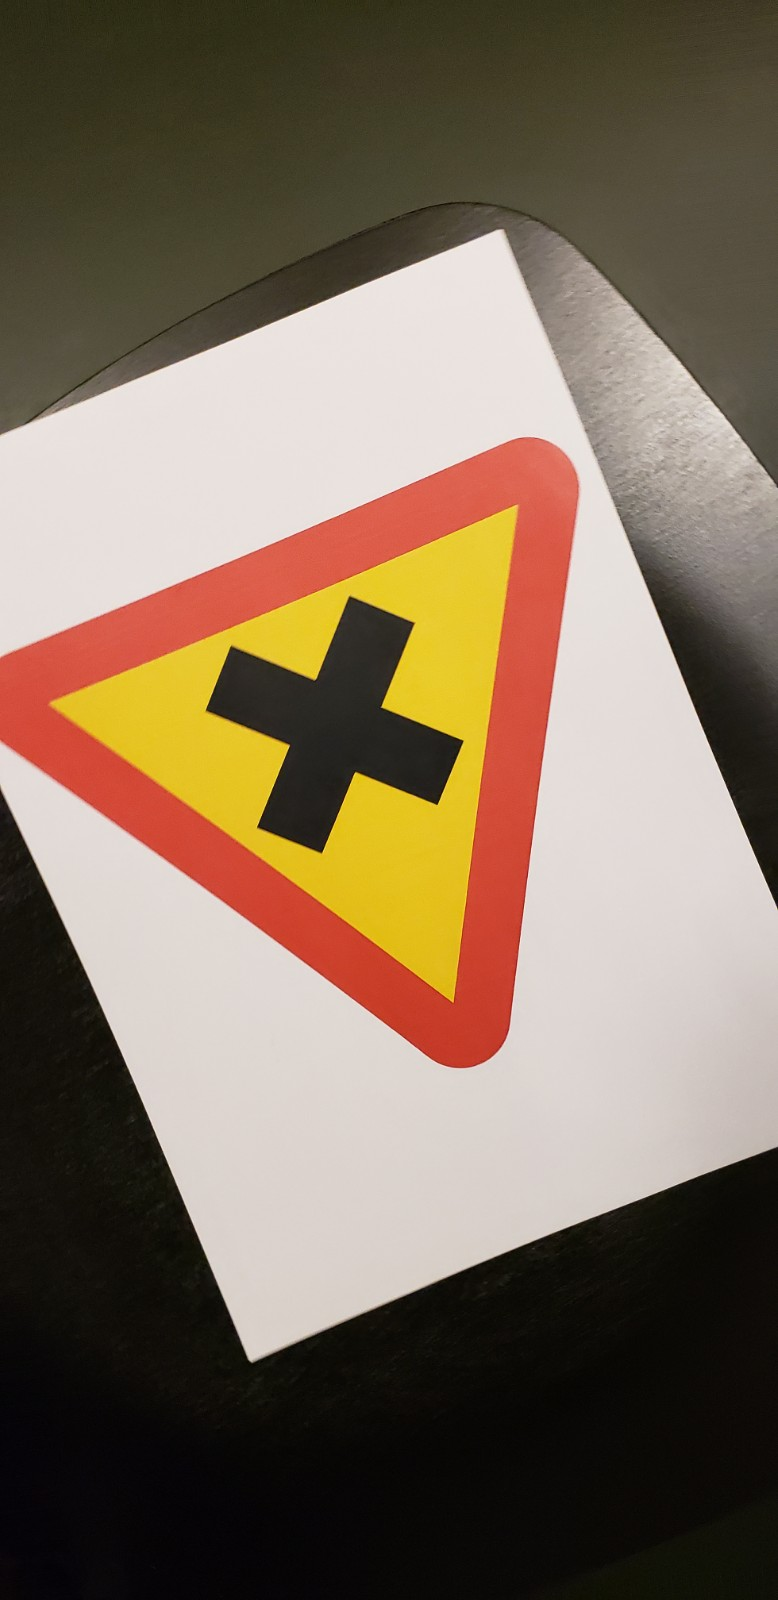junction: (12, 424, 742, 1158)
